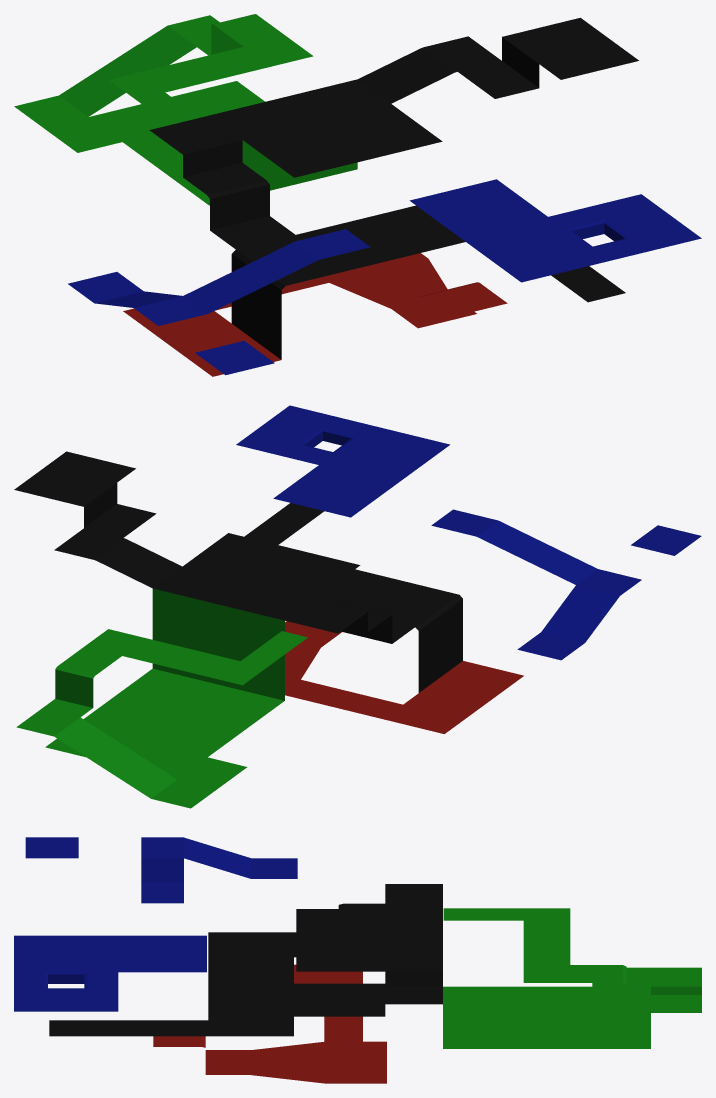
Rendered from stage_04.fbx.
3 renders of one model, top to bottom at view 1: azimuth 30°, elevation 25°; view 2: azimuth 150°, elevation 25°; view 3: azimuth 270°, elevation 25°, orthographic. The views are drawn at different scales.
Visible parts, largest first — view 1: Sprite; view 2: Sprite; view 3: Sprite.
Boxes of the visible parts, x1,y1,x2,y2 form: Sprite: (14, 14, 701, 376); Sprite: (14, 405, 701, 808); Sprite: (14, 837, 701, 1083).
Size of the model in its own units: 5305 by 6509 by 1521.
